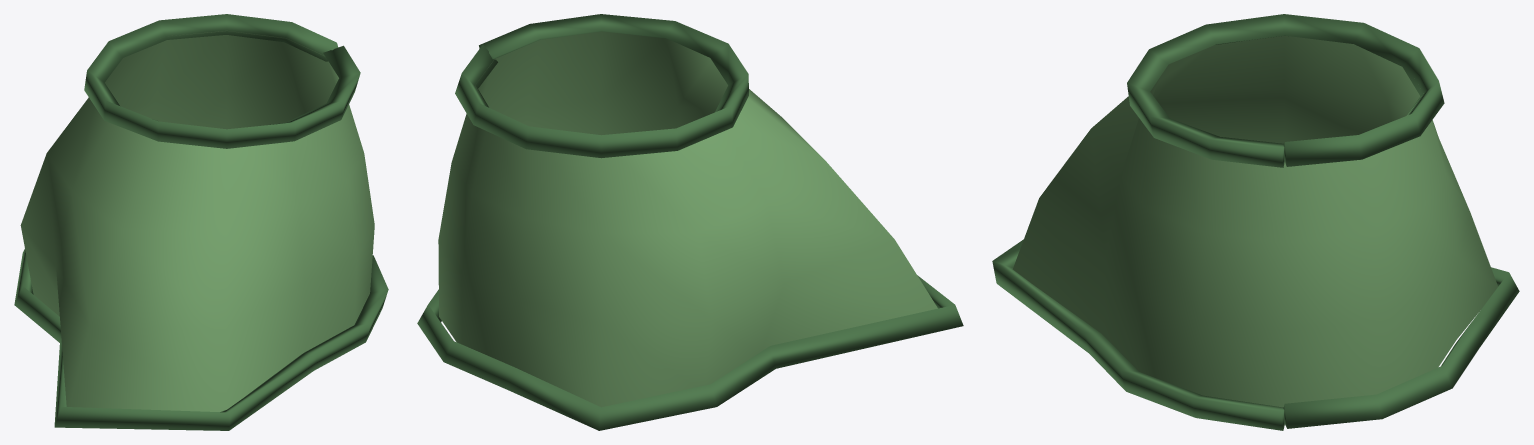
Rendered from tungsten_armor_pauldron.R.glb.
The picture shows the model from 3 angles, left to right: view 1: azimuth 30°, elevation 25°; view 2: azimuth 150°, elevation 25°; view 3: azimuth 270°, elevation 25°; orthographic projection. The views are drawn at different scales.
Parts seen in each view (by area): view 1: tungsten_armor_pauldron.R; view 2: tungsten_armor_pauldron.R; view 3: tungsten_armor_pauldron.R.
Part boxes in pixels (x1,y1,x2,y2): tungsten_armor_pauldron.R: [14, 14, 388, 430]; tungsten_armor_pauldron.R: [417, 14, 963, 430]; tungsten_armor_pauldron.R: [992, 14, 1519, 430].
Size of the model in its own units: 0.2897 by 0.1646 by 0.2886.
